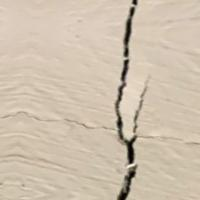crack: (95, 0, 150, 199)
